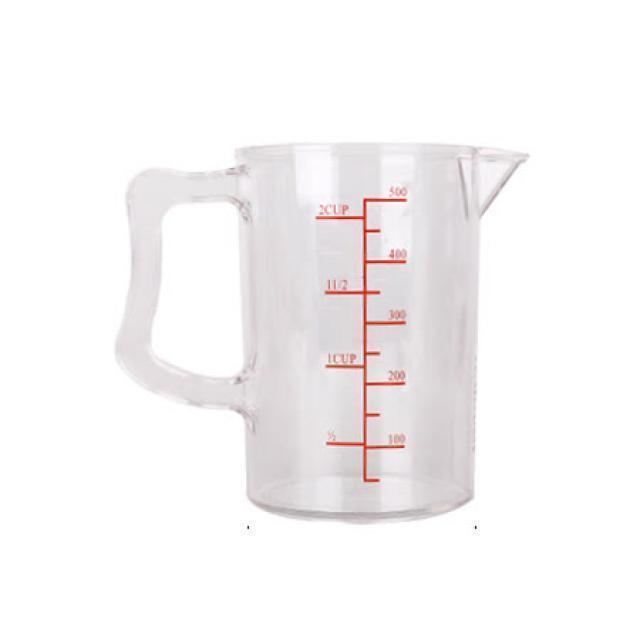Plastic: (115, 136, 530, 526)
